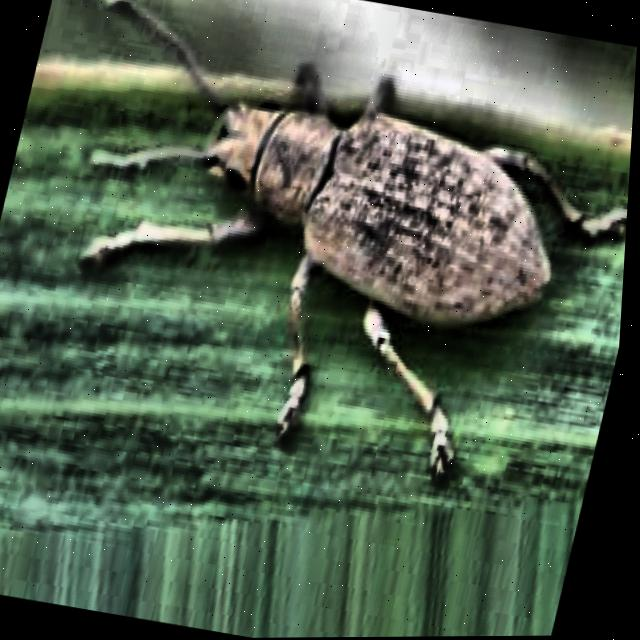Stink bug: (66, 0, 631, 441)
